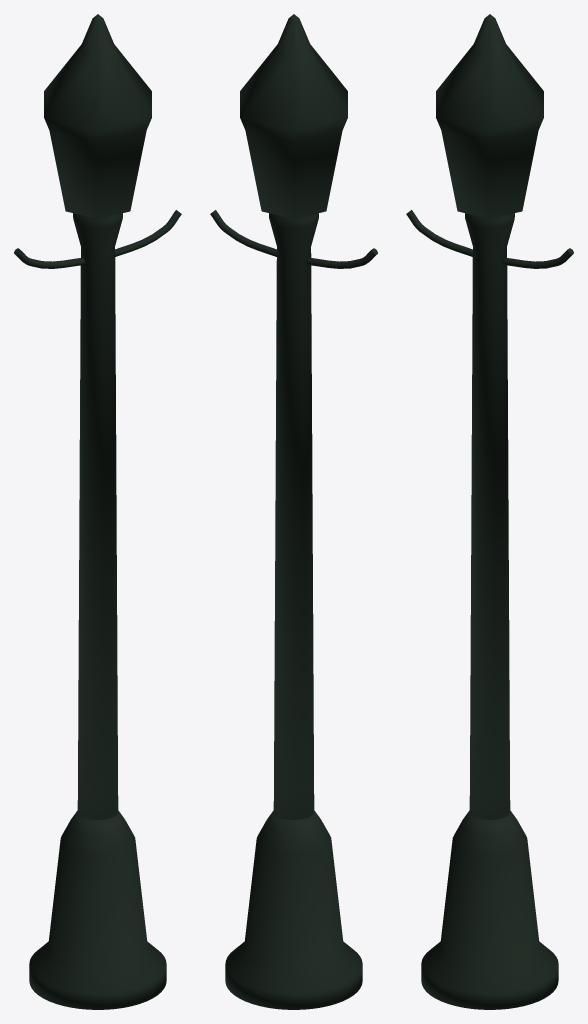
File: victorian-green.glb
The picture shows the model from 3 angles, left to right: view 1: azimuth 30°, elevation 25°; view 2: azimuth 150°, elevation 25°; view 3: azimuth 330°, elevation 25°; orthographic projection.
Visible parts, largest first — view 1: paint_primary; view 2: paint_primary; view 3: paint_primary.
Part boxes in pixels (<box>): paint_primary: <box>14,14,181,1009</box>; paint_primary: <box>210,14,377,1009</box>; paint_primary: <box>406,14,573,1009</box>.
Bounding box in the file's own units: 0.6162 × 3.42 × 0.4401.
Materials: 2 (1 with a texture image).
